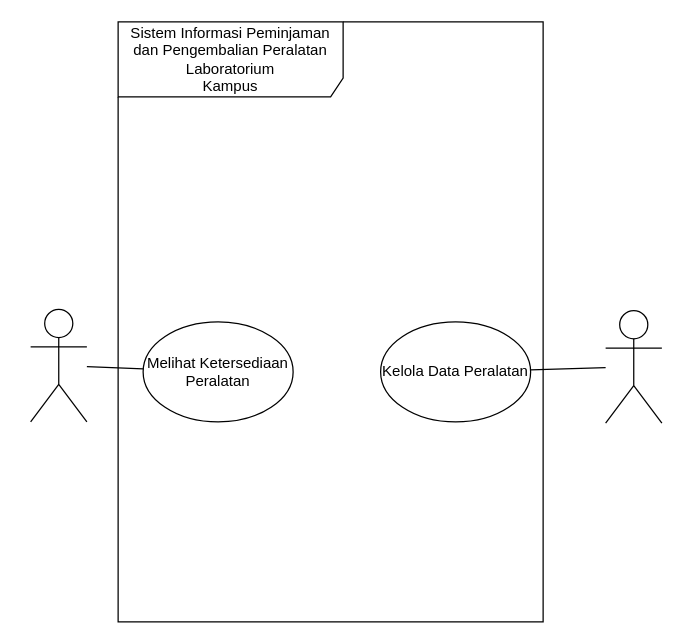
Some shapes in this 684 by 644 pixel diagram are drawn without their labels. Here are the shapes that lost their labels. From the top down, the centre of each, then its label:
the point at 58,365: Mahasiswa
the point at 633,366: Petugas Laboran
